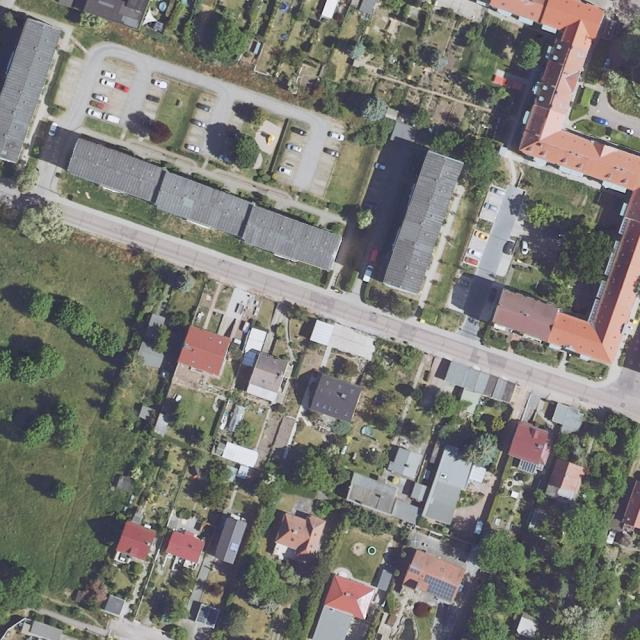PV: (423, 574, 457, 602)
ST: (409, 567, 420, 576)
